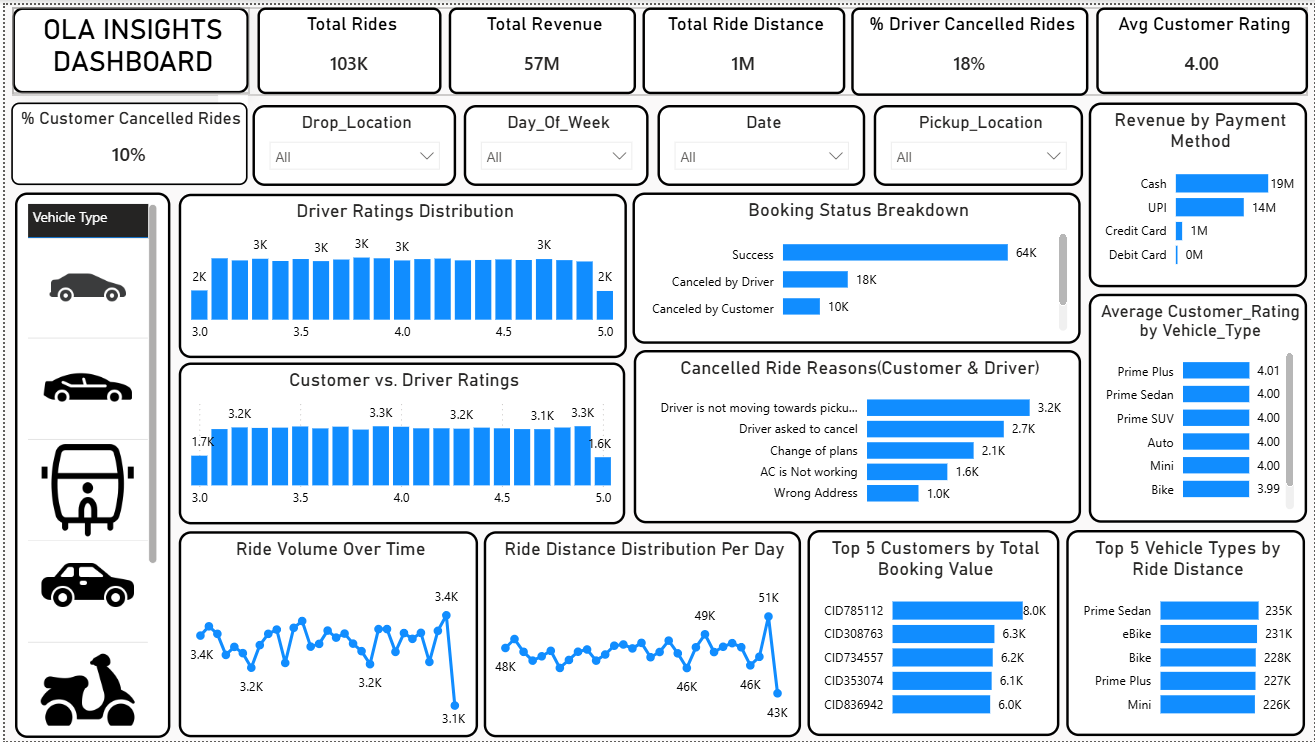

This screenshot's page, from the dashboard's own definition file:
{"tool":"powerbi","page":{"name":"Dashboard","canvas":[1280,720],"ordinal":5},"visuals":[{"type":"textbox","title":"OLA INSIGHTS DASHBOARD","box":[7.1,2.4,231,84.2],"z":0,"group":"g1"},{"type":"cardVisual","title":"% Customer Cancelled Rides","fields":{"Data":["OLA_Ride_Cleaned_file.% Customer Cancelled Rides (Display)"]},"box":[5.8,94.8,231,81],"z":0,"group":"g2"},{"type":"tableEx","fields":{"Values":["Vehicle Type.Image"]},"box":[10.1,183.2,152,533.8],"z":0},{"type":"cardVisual","title":"Avg Customer Rating","fields":{"Data":["OLA_Ride_Cleaned_file.Average Customer Rating"]},"box":[1067.5,2.4,207,85],"z":1000,"group":"g1"},{"type":"barChart","title":"Revenue by Payment Method","fields":{"Category":["OLA_Ride_Cleaned_file.Payment_Method"],"Y":["Sum(OLA_Ride_Cleaned_file.Booking_Value)"]},"box":[1060.2,95.4,214,181],"z":1000},{"type":"slicer","title":"Date","fields":{"Values":["OLA_Ride_Cleaned_file.Date"]},"box":[637.5,97,203.4,79],"z":1000,"group":"g2"},{"type":"cardVisual","title":"Total Rides","fields":{"Data":["OLA_Ride_Cleaned_file.Total Rides"]},"box":[246.6,2.4,180.3,85],"z":2000,"group":"g1"},{"type":"slicer","title":"Drop_Location","fields":{"Values":["OLA_Ride_Cleaned_file.Drop_Location"]},"box":[241.8,97.1,199.3,79.5],"z":2000,"group":"g2"},{"type":"lineChart","title":"Ride Volume Over Time","fields":{"Category":["OLA_Ride_Cleaned_file.Date"],"Y":["CountNonNull(OLA_Ride_Cleaned_file.Booking_ID)"]},"box":[170.2,515.1,292.9,202],"z":2000},{"type":"cardVisual","title":"Total Revenue","fields":{"Data":["OLA_Ride_Cleaned_file.Total Revenue"]},"box":[434.2,2.4,183,85],"z":3000,"group":"g1"},{"type":"slicer","title":"Pickup_Location","fields":{"Values":["OLA_Ride_Cleaned_file.Pickup_Location"]},"box":[849.6,97.2,204.9,79],"z":3000,"group":"g2"},{"type":"barChart","title":"   Top 5 Vehicle Types by Ride Distance ","fields":{"Category":["OLA_Ride_Cleaned_file.Vehicle_Type"],"Y":["Sum(OLA_Ride_Cleaned_file.Ride_Distance)"]},"box":[1038.8,513.6,233.7,202],"z":3000},{"type":"cardVisual","title":"% Driver Cancelled Rides","fields":{"Data":["OLA_Ride_Cleaned_file.% Driver Cancelled Rides"]},"box":[828,2.4,232.3,86],"z":4000,"group":"g1"},{"type":"slicer","title":"Day_Of_Week","fields":{"Values":["OLA_Ride_Cleaned_file.DayOfWeek"]},"box":[448.5,97.1,181,79.5],"z":4000,"group":"g2"},{"type":"barChart","title":" Top 5 Customers by Total Booking Value","fields":{"Category":["OLA_Ride_Cleaned_file.Customer_ID"],"Y":["Sum(OLA_Ride_Cleaned_file.Booking_Value)"]},"box":[784.9,513.6,246,202],"z":4000},{"type":"cardVisual","title":"Total Ride Distance","fields":{"Data":["OLA_Ride_Cleaned_file.Total Ride Distance"]},"box":[623.2,2.4,198,85],"z":5000,"group":"g1"},{"type":"lineChart","title":" Ride Distance Distribution Per Day","fields":{"Category":["OLA_Ride_Cleaned_file.Date"],"Y":["Sum(OLA_Ride_Cleaned_file.Ride_Distance)"]},"box":[468.9,515.1,310.2,202],"z":5000},{"type":"clusteredBarChart","title":"Average Customer_Rating  by Vehicle_Type","fields":{"Category":["OLA_Ride_Cleaned_file.Vehicle_Type"],"Y":["Avg(OLA_Ride_Cleaned_file.Customer_Rating)"]},"box":[1060.4,282.8,213.5,223.6],"z":6000},{"type":"columnChart","title":" Customer vs. Driver Ratings","fields":{"Category":["OLA_Ride_Cleaned_file.Customer_Rating","OLA_Ride_Cleaned_file.Driver_Ratings"],"Y":["CountNonNull(OLA_Ride_Cleaned_file.Booking_ID)"]},"box":[170,349.7,436.6,158],"z":7000},{"type":"barChart","title":"Booking Status Breakdown","fields":{"Category":["OLA_Ride_Cleaned_file.Booking_Status"],"Y":["CountNonNull(OLA_Ride_Cleaned_file.Booking_ID)"]},"box":[613.9,183.4,438,148],"z":8000},{"type":"columnChart","title":"Driver Ratings Distribution","fields":{"Category":["OLA_Ride_Cleaned_file.Driver_Ratings"],"Y":["CountNonNull(OLA_Ride_Cleaned_file.Booking_ID)"]},"box":[170.2,184.7,438.6,161],"z":9000},{"type":"clusteredBarChart","title":"Cancelled Ride Reasons(Customer & Driver)","fields":{"Category":["OLA_Ride_Cleaned_file.Canceled_Rides_by_Customer","OLA_Ride_Cleaned_file.Canceled_Rides_by_Driver"],"Y":["CountNonNull(OLA_Ride_Cleaned_file.Booking_ID)"]},"box":[615.1,337.5,437.8,170],"z":10000},{"type":"group","id":"g1","title":"Group 1","box":[7.1,2.4,1267.4,86],"z":11000},{"type":"group","id":"g2","title":"Group 2","box":[5.8,94.8,1048.6,81.8],"z":12000}]}

Visuals, with their boxes in screenshot pixels (x1, y1, x2, y2), scaled from the page's 1280x720 canvas onto the 1315x742 screenshot:
"OLA INSIGHTS DASHBOARD" textbox: 7,2,245,89
"% Customer Cancelled Rides" cardVisual: 6,98,243,181
tableEx - Vehicle Type.Image: 10,189,167,739
"Avg Customer Rating" cardVisual: 1097,2,1309,90
"Revenue by Payment Method" barChart: 1089,98,1309,285
"Date" slicer: 655,100,864,181
"Total Rides" cardVisual: 253,2,439,90
"Drop_Location" slicer: 248,100,453,182
"Ride Volume Over Time" lineChart: 175,531,476,739
"Total Revenue" cardVisual: 446,2,634,90
"Pickup_Location" slicer: 873,100,1083,182
"   Top 5 Vehicle Types by Ride Distance " barChart: 1067,529,1307,737
"% Driver Cancelled Rides" cardVisual: 851,2,1089,91
"Day_Of_Week" slicer: 461,100,647,182
" Top 5 Customers by Total Booking Value" barChart: 806,529,1059,737
"Total Ride Distance" cardVisual: 640,2,844,90
" Ride Distance Distribution Per Day" lineChart: 482,531,800,739
"Average Customer_Rating  by Vehicle_Type" clusteredBarChart: 1089,291,1309,522
" Customer vs. Driver Ratings" columnChart: 175,360,623,523
"Booking Status Breakdown" barChart: 631,189,1081,342
"Driver Ratings Distribution" columnChart: 175,190,625,356
"Cancelled Ride Reasons(Customer & Driver)" clusteredBarChart: 632,348,1082,523
"Group 1" group: 7,2,1309,91
"Group 2" group: 6,98,1083,182
